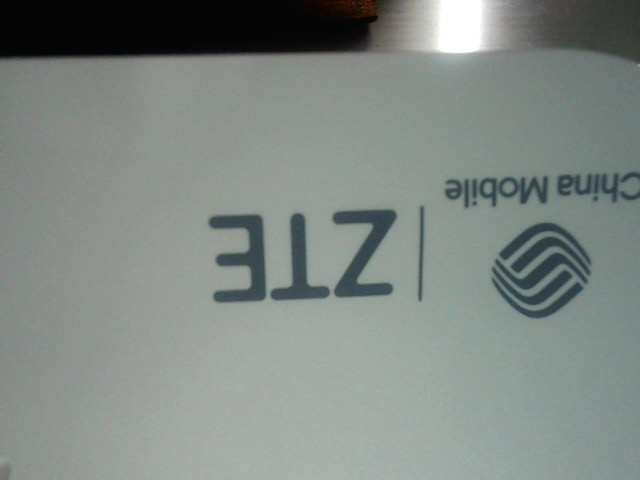AL_ZTEChinaMobile: (195, 163, 639, 326)
